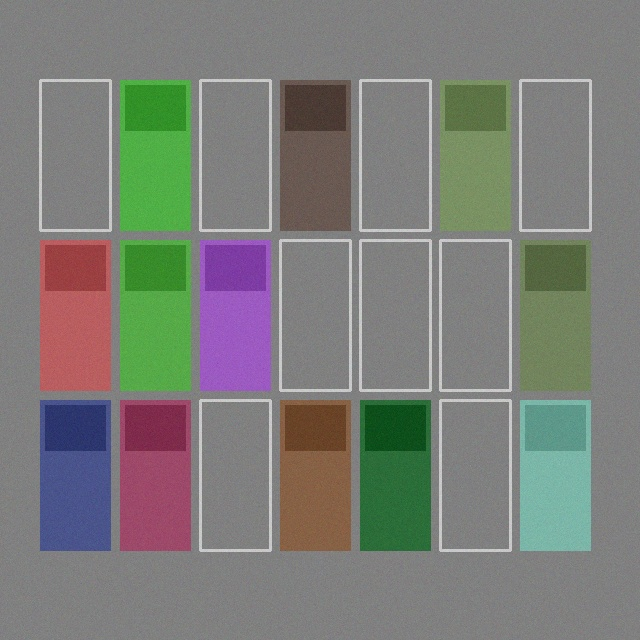space-empty: (40, 80, 110, 230), (200, 80, 270, 230), (360, 80, 430, 230), (520, 80, 590, 230), (280, 240, 350, 390), (360, 240, 430, 390), (440, 240, 510, 390), (200, 400, 270, 550), (440, 400, 510, 550)
space-occupied: (120, 80, 190, 230), (280, 80, 350, 230), (440, 80, 510, 230), (40, 240, 110, 390), (120, 240, 190, 390), (200, 240, 270, 390), (520, 240, 590, 390), (40, 400, 110, 550), (120, 400, 190, 550), (280, 400, 350, 550), (360, 400, 430, 550), (520, 400, 590, 550)
